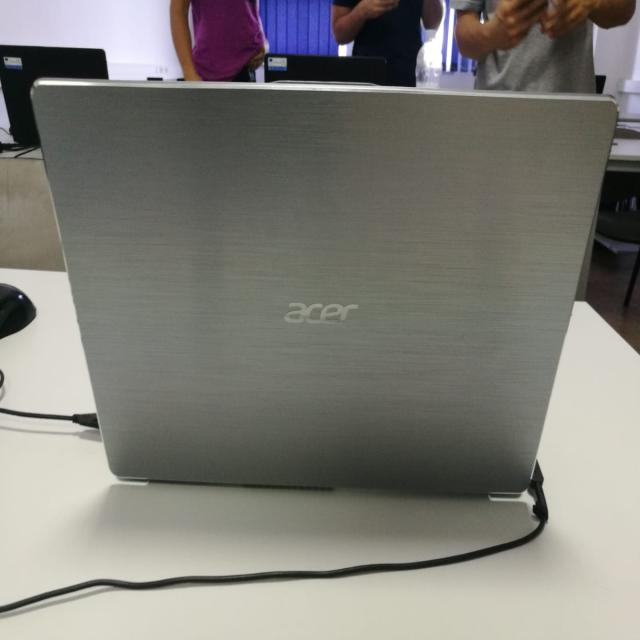Laptops_bbox: (16, 66, 640, 582)
